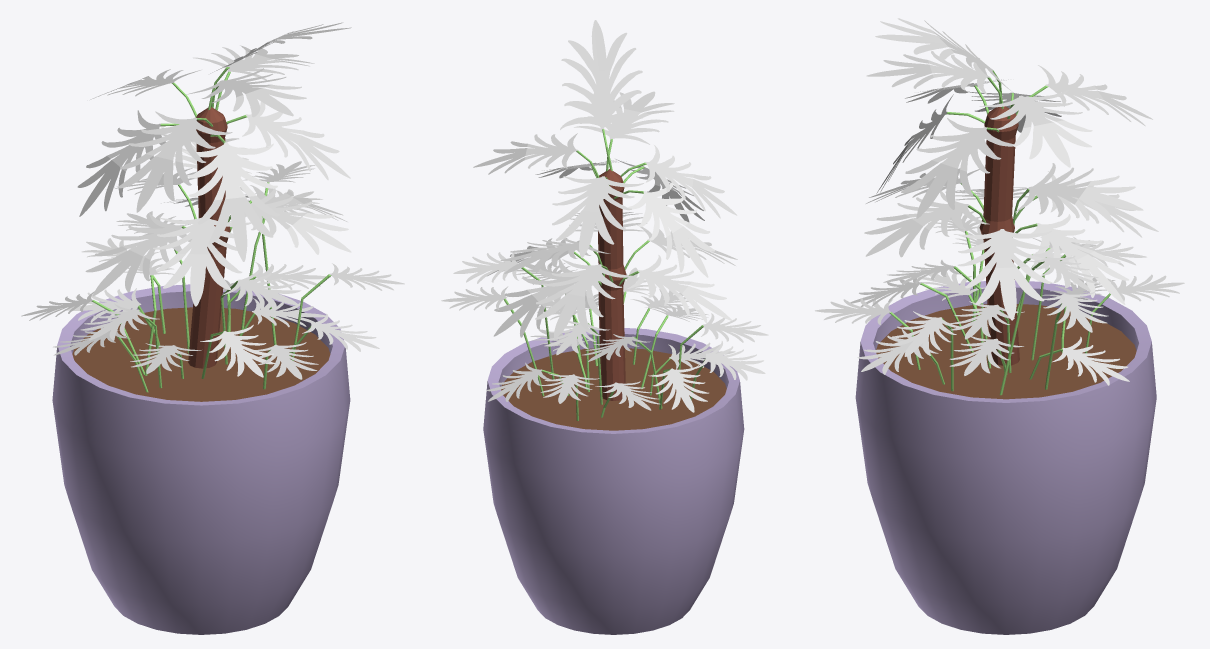
The model's file is flowerpot.fbx.
The picture shows the model from 3 angles, left to right: view 1: azimuth 30°, elevation 25°; view 2: azimuth 150°, elevation 25°; view 3: azimuth 270°, elevation 25°; orthographic projection. The views are drawn at different scales.
Visible parts, largest first — view 1: Pot, Soil, Plane.066, Stem_Main, Plane.058, Plane.046, Plane.044, Plane.062, Plane.060, Plane.038, Plane.065, Plane.050 (+20 smaller); view 2: Pot, Soil, Stem_Main, Plane.055, Plane.062, Plane.053, Plane.040, Plane.044, Plane.042, Plane.058, Plane.052, Plane.064 (+16 smaller); view 3: Pot, Soil, Stem_Main, Plane.060, Plane.047, Plane.052, Plane.064, Plane.042, Plane.038, Plane.055, Plane.048, Plane.050 (+21 smaller).
Boxes of the visible parts, x1,y1,x2,y2 form: Pot: [52, 284, 350, 634]; Soil: [72, 307, 330, 401]; Plane.066: [183, 142, 279, 261]; Stem_Main: [188, 107, 230, 368]; Plane.058: [118, 111, 231, 211]; Plane.046: [153, 218, 251, 305]; Plane.044: [86, 213, 192, 292]; Plane.062: [77, 110, 165, 216]; Plane.060: [242, 101, 349, 177]; Plane.038: [228, 188, 351, 254]; Plane.065: [182, 142, 279, 261]; Plane.050: [192, 68, 306, 117]; Pot: [483, 328, 744, 634]; Soil: [501, 348, 726, 430]; Stem_Main: [598, 169, 626, 400]; Plane.055: [560, 20, 642, 129]; Plane.062: [627, 182, 714, 277]; Plane.053: [552, 176, 643, 258]; Plane.040: [535, 259, 635, 329]; Plane.044: [628, 255, 729, 322]; Plane.042: [493, 259, 594, 337]; Plane.058: [646, 145, 737, 218]; Plane.052: [477, 133, 577, 174]; Plane.064: [500, 238, 610, 273]; Pot: [855, 280, 1156, 634]; Soil: [876, 304, 1136, 399]; Stem_Main: [979, 106, 1019, 365]; Plane.060: [917, 118, 1013, 211]; Plane.047: [956, 229, 1052, 320]; Plane.052: [980, 90, 1092, 166]; Plane.064: [1016, 163, 1143, 222]; Plane.042: [1016, 214, 1128, 304]; Plane.038: [864, 191, 989, 257]; Plane.055: [875, 18, 1012, 91]; Plane.048: [957, 229, 1051, 319]; Plane.050: [866, 51, 989, 94].
Size of the model in its own units: 2.65 by 4.6 by 2.66.
